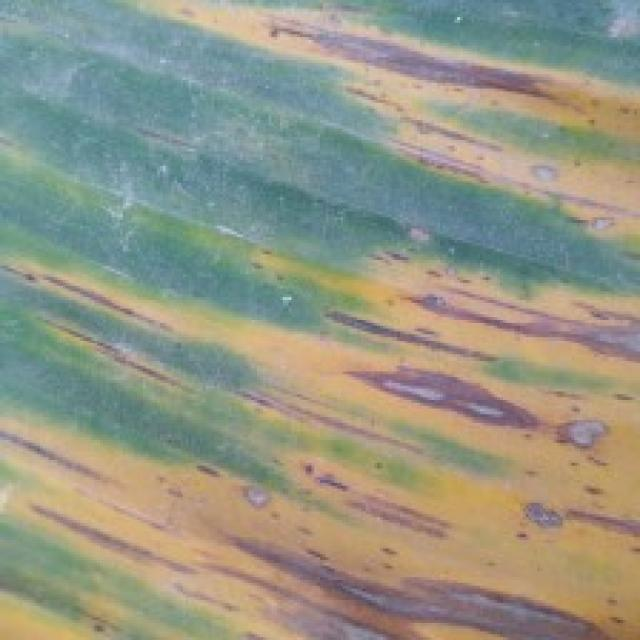Early_leaf_spot: (0, 263, 640, 640), (117, 0, 640, 249)
